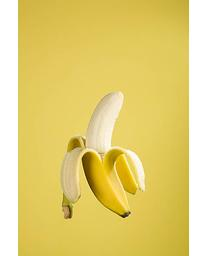banana: (62, 89, 149, 221)
